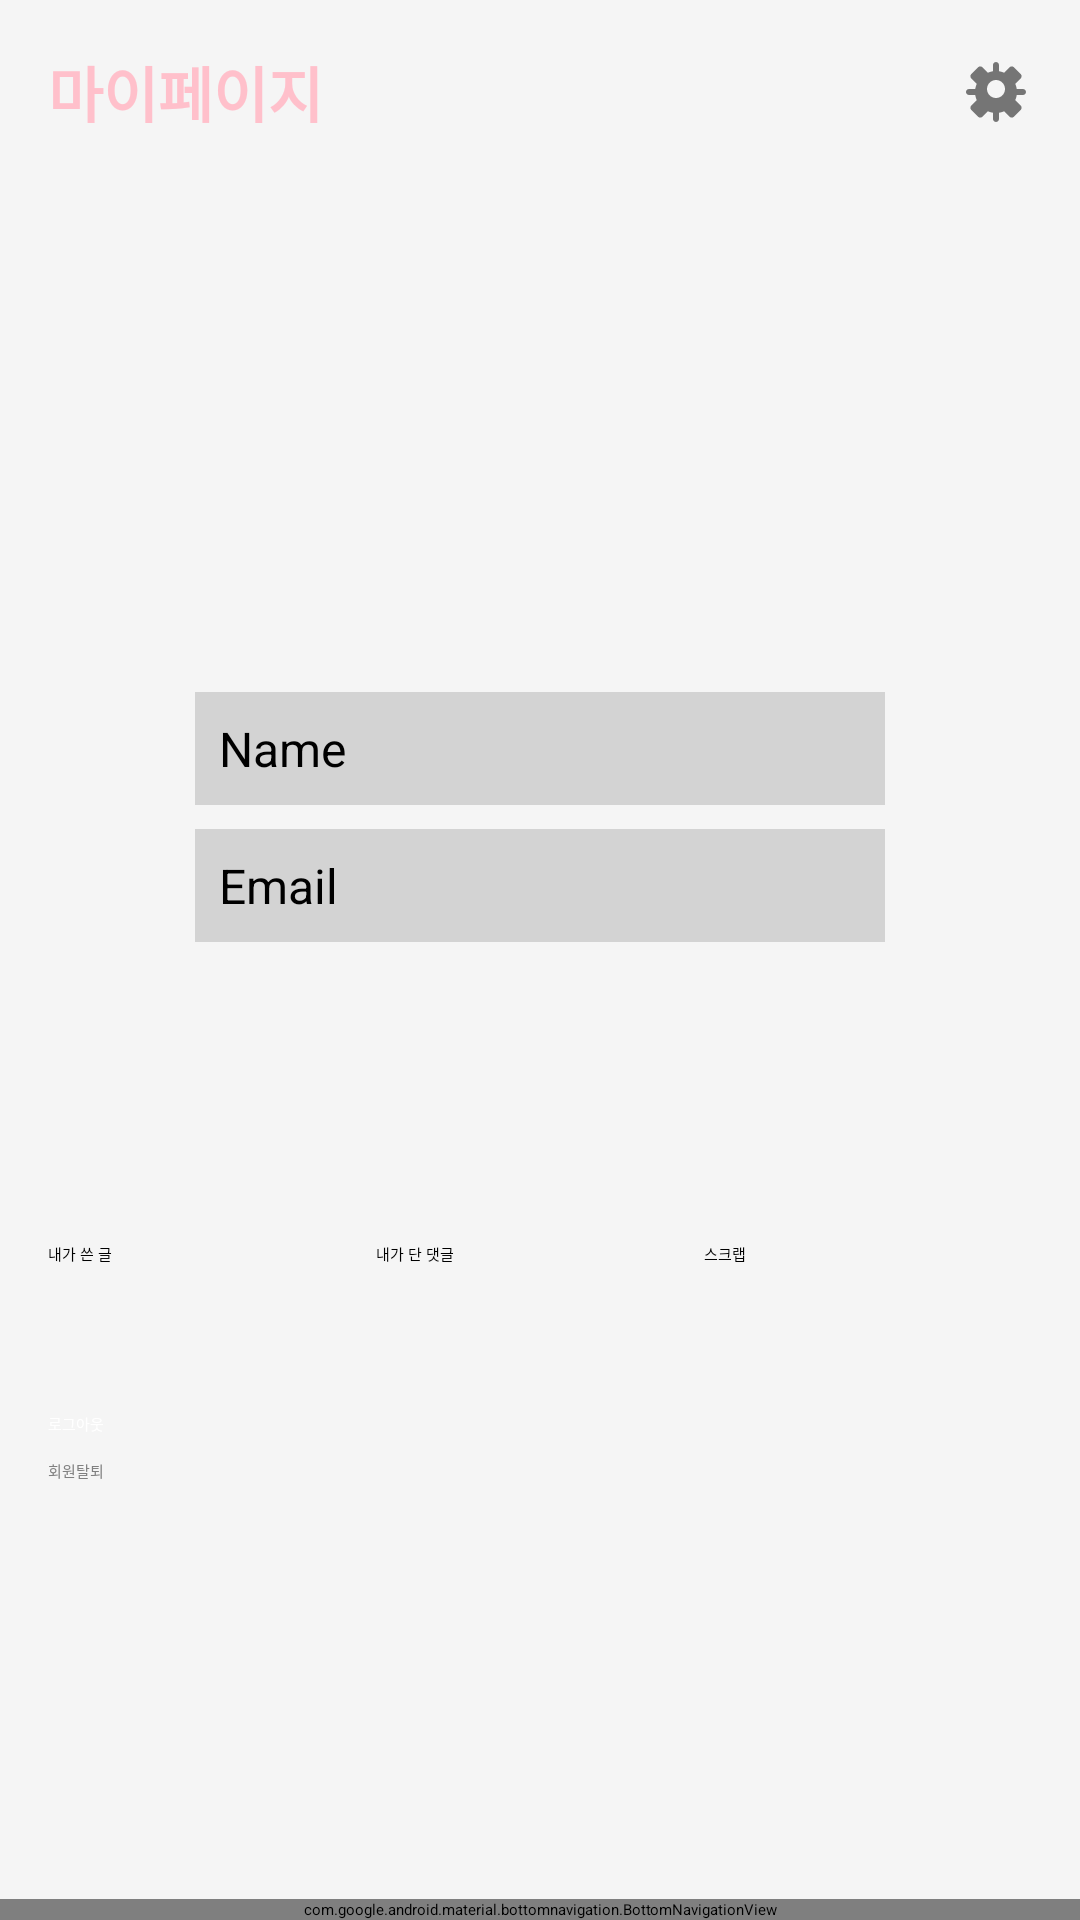

Icons on this 1080w x 1920h Android screen, each with the point to tap as [x,y]:
Settings: [996,92]
